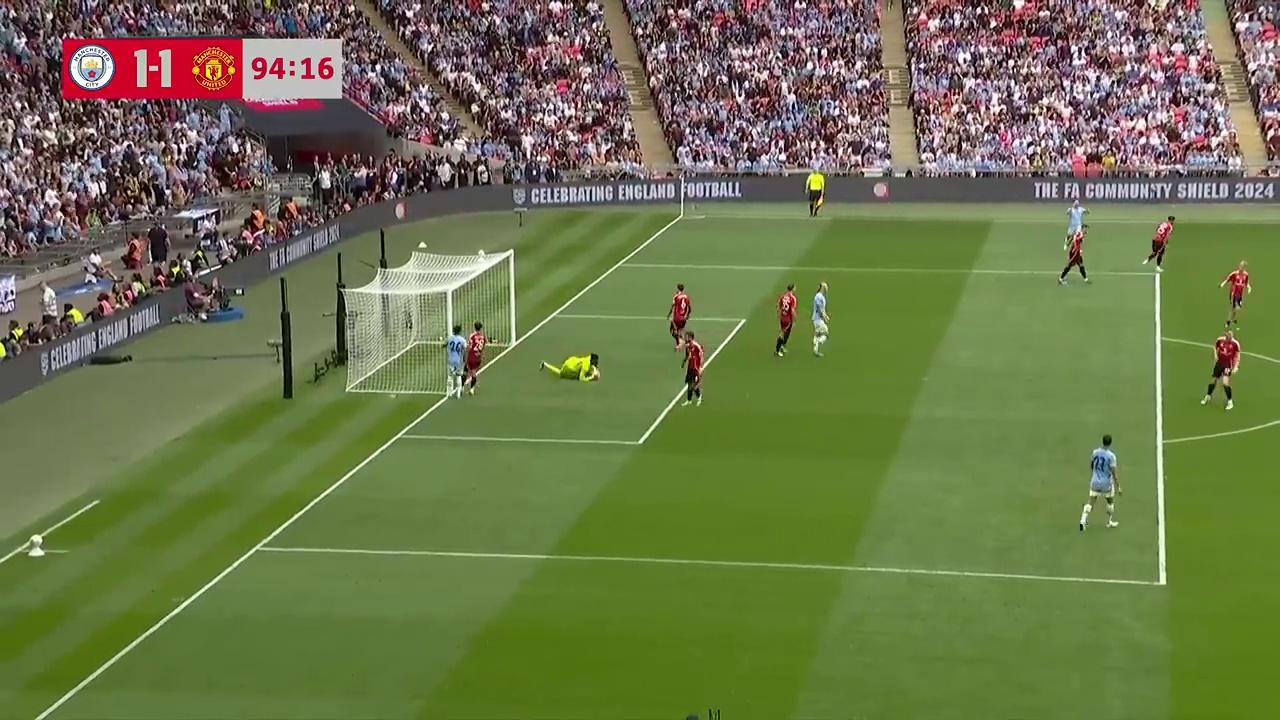player: (1078, 433, 1122, 531), (1199, 327, 1240, 411), (1219, 260, 1251, 328), (537, 351, 599, 384), (1057, 228, 1091, 285), (680, 332, 705, 407), (1141, 217, 1175, 271), (774, 284, 798, 358), (442, 327, 466, 398), (809, 281, 831, 357), (463, 322, 485, 396), (668, 283, 691, 351), (1064, 198, 1086, 244)
referee: (806, 168, 825, 218)
